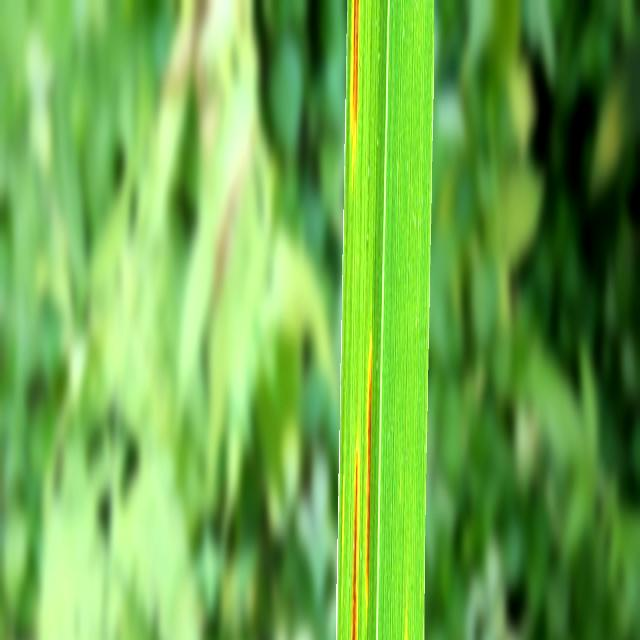NBS: (351, 443, 358, 640), (351, 0, 359, 155), (366, 350, 371, 585), (405, 634, 407, 640)
